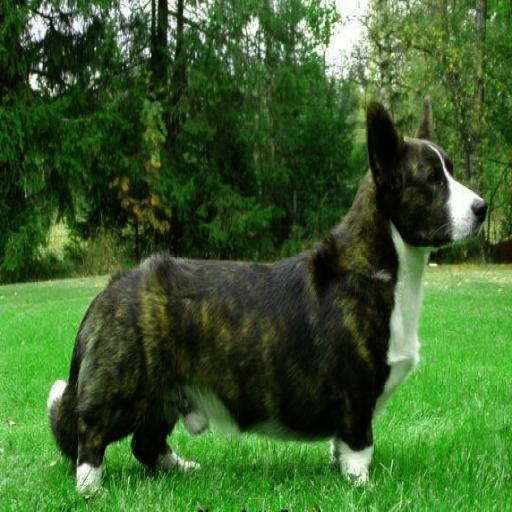dog_face: (357, 86, 488, 241)
